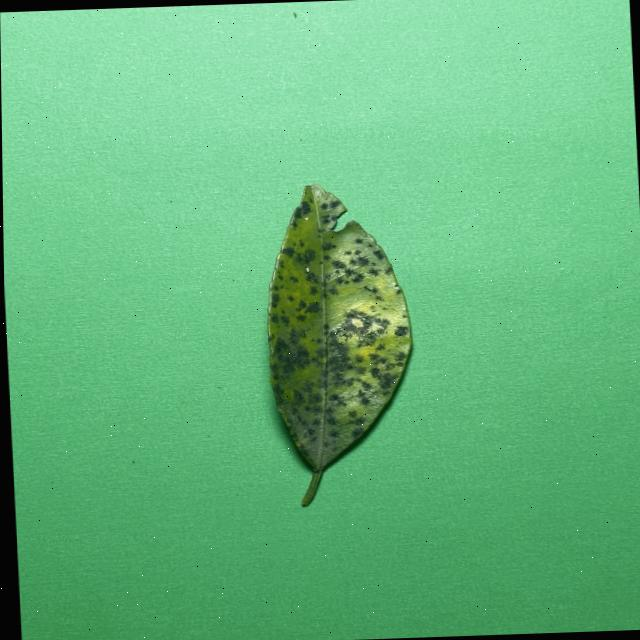sooty_mold: (266, 183, 411, 504)
